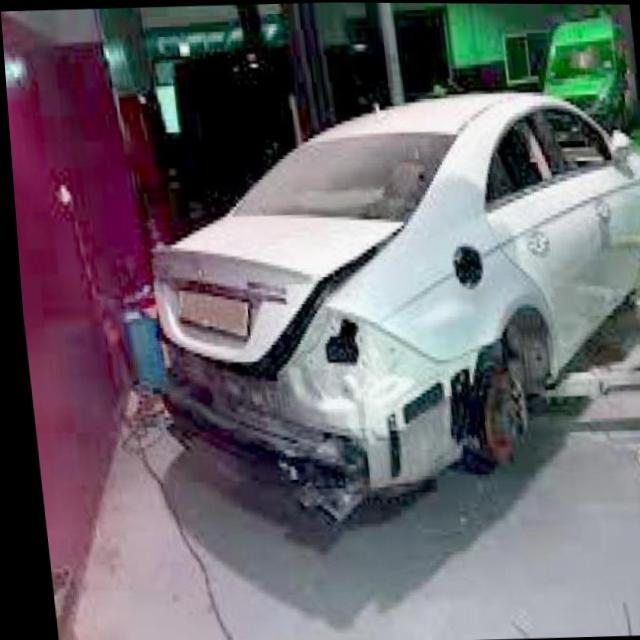Car-Damage: (138, 294, 508, 522)
